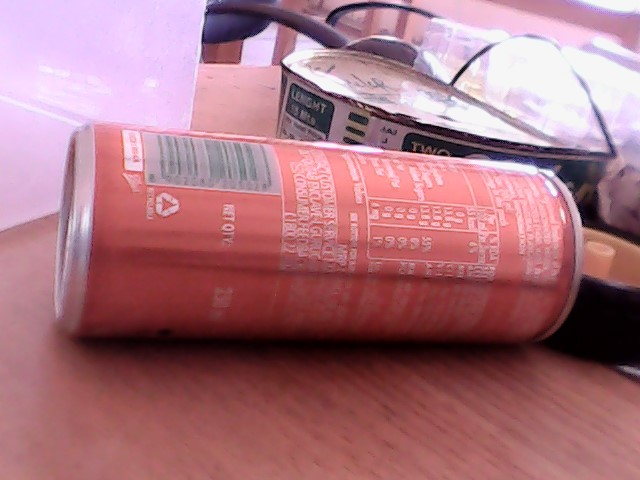Metal: (46, 121, 591, 353)
